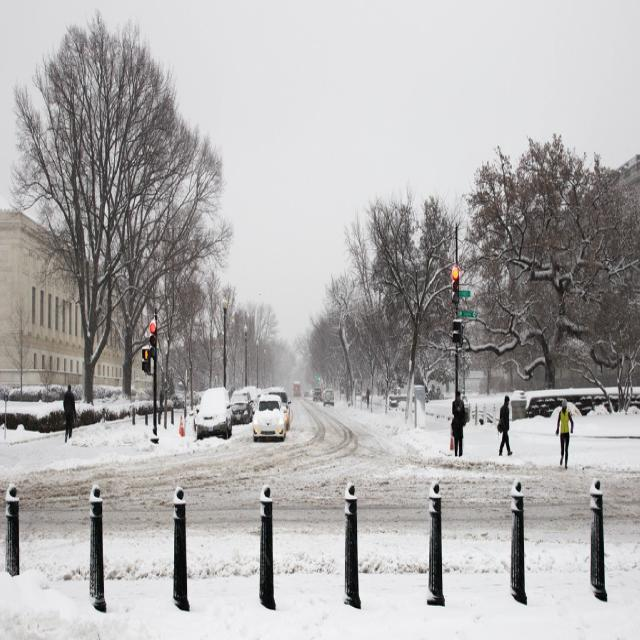off traffic light: (452, 320, 462, 343)
traffic light: (149, 321, 157, 358), (451, 267, 459, 303), (141, 349, 150, 371)
